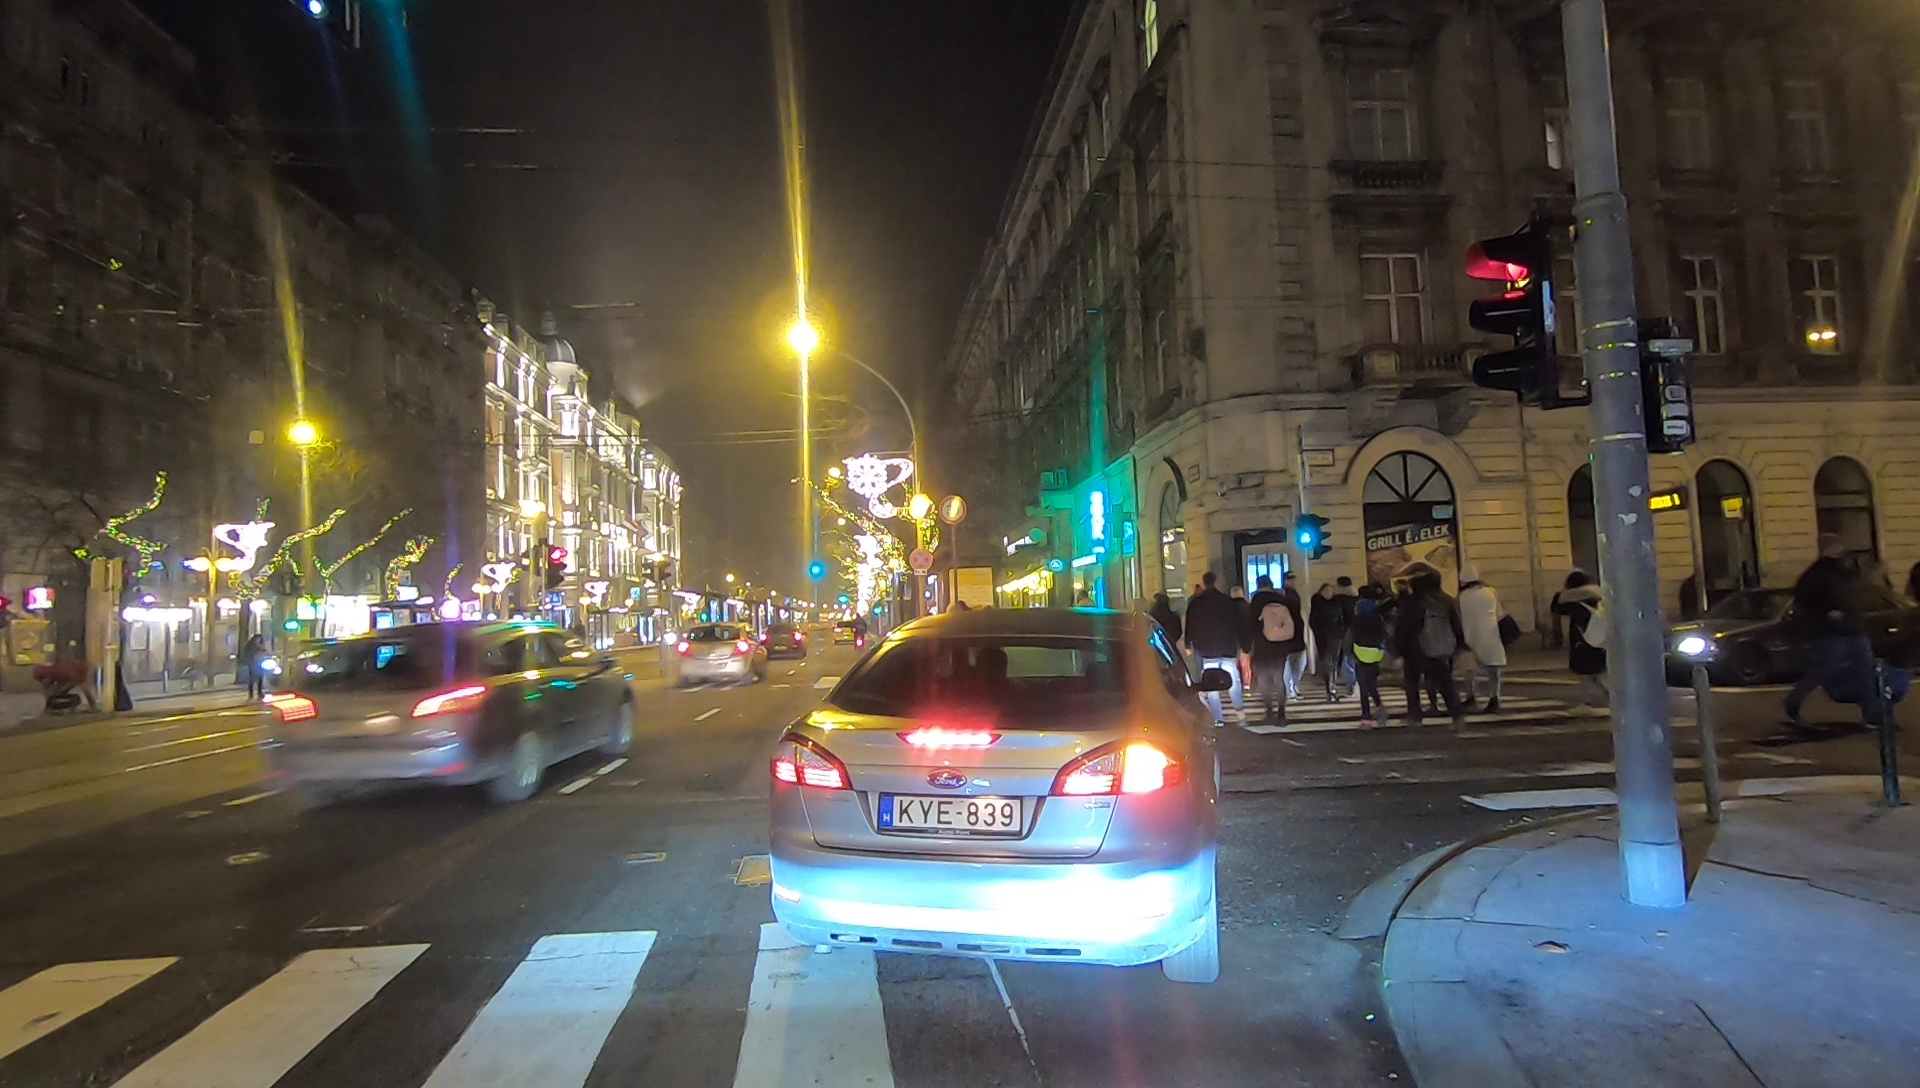person: (1797, 538, 1895, 728), (1400, 578, 1466, 720), (1559, 567, 1617, 706), (1456, 566, 1510, 713), (1194, 576, 1248, 719), (1250, 579, 1300, 720), (1349, 598, 1398, 729), (1310, 582, 1350, 706), (1151, 589, 1186, 684), (248, 634, 268, 700)
